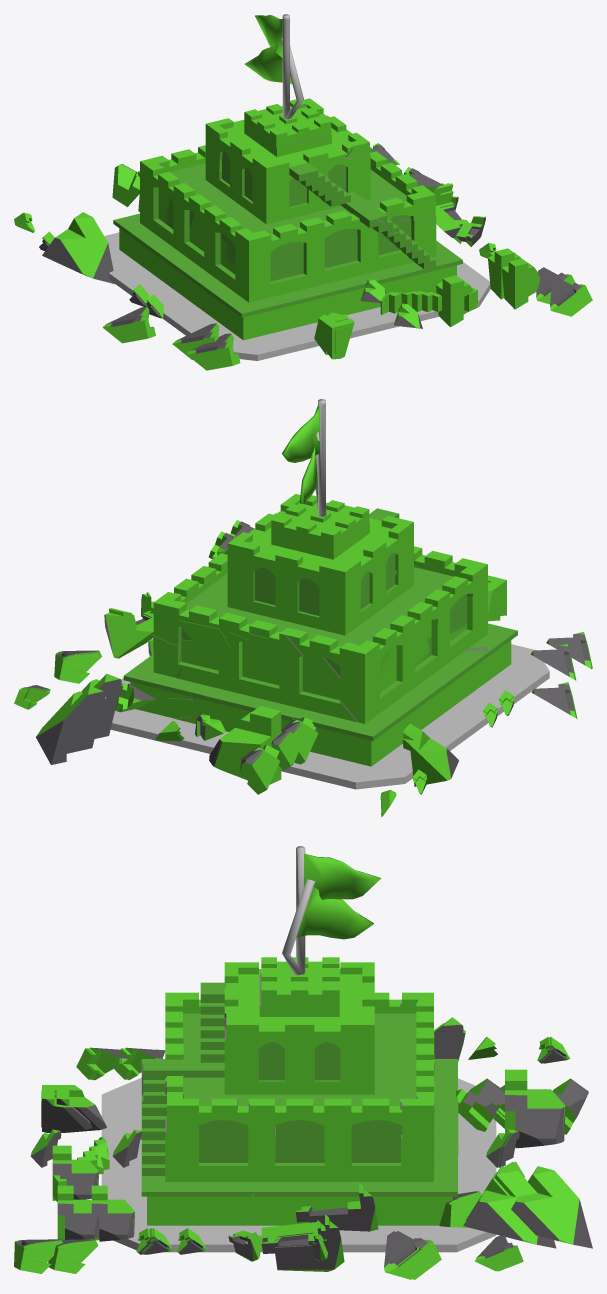
The model's file is destroyedcastlelevel1green.fbx.
3 renders of one model, top to bottom at view 1: azimuth 30°, elevation 25°; view 2: azimuth 150°, elevation 25°; view 3: azimuth 270°, elevation 25°, orthographic. The views are drawn at different scales.
Visible parts, largest first — view 1: castlelevel1green25destyoed.001, castlelevel1green, castlelevel1blue50destroyed.001, greenbasecastelevel175destoreyed, castlelevel1green75destroyed, castlelevel1greendestroyed.004, castlelevel1greendestroy75.014, castlelevel1greendestroyed.005, greenbasecastelevel125destoreyed, castlelevel1green25destroy.012, castlelevel1greendestroy75.027, castlelevel1green25destroy.008 (+10 smaller); view 2: castlelevel1green, castlelevel1green75destroyed, greenbasecastelevel175destoreyed, castlelevel1green25destyoed.001, castlelevel1blue50destroyed.001, castlelevel1greendestroyed.011, castlelevel1greendestroyed.044, greenbasecastelevel1100destoreyed, castlelevel1greendestroyed.004, castlelevel1greendestroy75, castlelevel1greendestroy75.007, greenbasecastelevel125destoreyed (+8 smaller); view 3: castlelevel1green, castlelevel1green25destyoed.001, greenbasecastelevel1100destoreyed, castlelevel1green75destroyed, greenbasecastelevel175destoreyed, castlelevel1blue50destroyed.001, castlelevel1greendestroyed.011, castlelevel1greendestroyed.044, castlelevel1greendestroy75.006, castlelevel1greendestroy75, greenbasecastelevel125destoreyed, castlelevel1greendestroy75.014 (+21 smaller).
Boxes of the visible parts, x1=… form: castlelevel1green25destyoed.001: x1=114, y1=38, x2=462, y2=340; castlelevel1green: x1=113, y1=14, x2=461, y2=339; castlelevel1blue50destroyed.001: x1=127, y1=135, x2=435, y2=331; greenbasecastelevel175destoreyed: x1=106, y1=232, x2=484, y2=360; castlelevel1green75destroyed: x1=127, y1=149, x2=401, y2=329; castlelevel1greendestroyed.004: x1=42, y1=212, x2=115, y2=284; castlelevel1greendestroy75.014: x1=501, y1=258, x2=540, y2=309; castlelevel1greendestroyed.005: x1=380, y1=288, x2=477, y2=314; greenbasecastelevel125destoreyed: x1=105, y1=233, x2=489, y2=335; castlelevel1green25destroy.012: x1=102, y1=306, x2=155, y2=343; castlelevel1greendestroy75.027: x1=550, y1=277, x2=592, y2=316; castlelevel1green25destroy.008: x1=437, y1=276, x2=473, y2=327; castlelevel1green: x1=123, y1=399, x2=516, y2=766; castlelevel1green75destroyed: x1=146, y1=565, x2=498, y2=748; greenbasecastelevel175destoreyed: x1=112, y1=645, x2=549, y2=789; castlelevel1green25destyoed.001: x1=130, y1=431, x2=517, y2=764; castlelevel1blue50destroyed.001: x1=147, y1=502, x2=499, y2=736; castlelevel1greendestroyed.011: x1=36, y1=686, x2=106, y2=764; castlelevel1greendestroyed.044: x1=209, y1=706, x2=281, y2=784; greenbasecastelevel1100destoreyed: x1=110, y1=645, x2=547, y2=787; castlelevel1greendestroyed.004: x1=402, y1=723, x2=458, y2=786; castlelevel1greendestroy75: x1=104, y1=608, x2=153, y2=658; castlelevel1greendestroy75.007: x1=240, y1=745, x2=280, y2=794; greenbasecastelevel125destoreyed: x1=121, y1=644, x2=549, y2=789; castlelevel1green: x1=143, y1=846, x2=457, y2=1225; castlelevel1green25destyoed.001: x1=141, y1=879, x2=456, y2=1225; greenbasecastelevel1100destoreyed: x1=101, y1=1079, x2=496, y2=1252; castlelevel1green75destroyed: x1=167, y1=1005, x2=458, y2=1218; greenbasecastelevel175destoreyed: x1=101, y1=1077, x2=496, y2=1252; castlelevel1blue50destroyed.001: x1=142, y1=1010, x2=432, y2=1225; castlelevel1greendestroyed.011: x1=511, y1=1166, x2=592, y2=1248; castlelevel1greendestroyed.044: x1=505, y1=1069, x2=565, y2=1148; castlelevel1greendestroy75.006: x1=463, y1=1166, x2=556, y2=1248; castlelevel1greendestroy75: x1=261, y1=1214, x2=344, y2=1271; greenbasecastelevel125destoreyed: x1=101, y1=1079, x2=496, y2=1252; castlelevel1greendestroy75.014: x1=57, y1=1185, x2=99, y2=1239.
Bounding box in the file's own units: 618 × 387 × 621.
